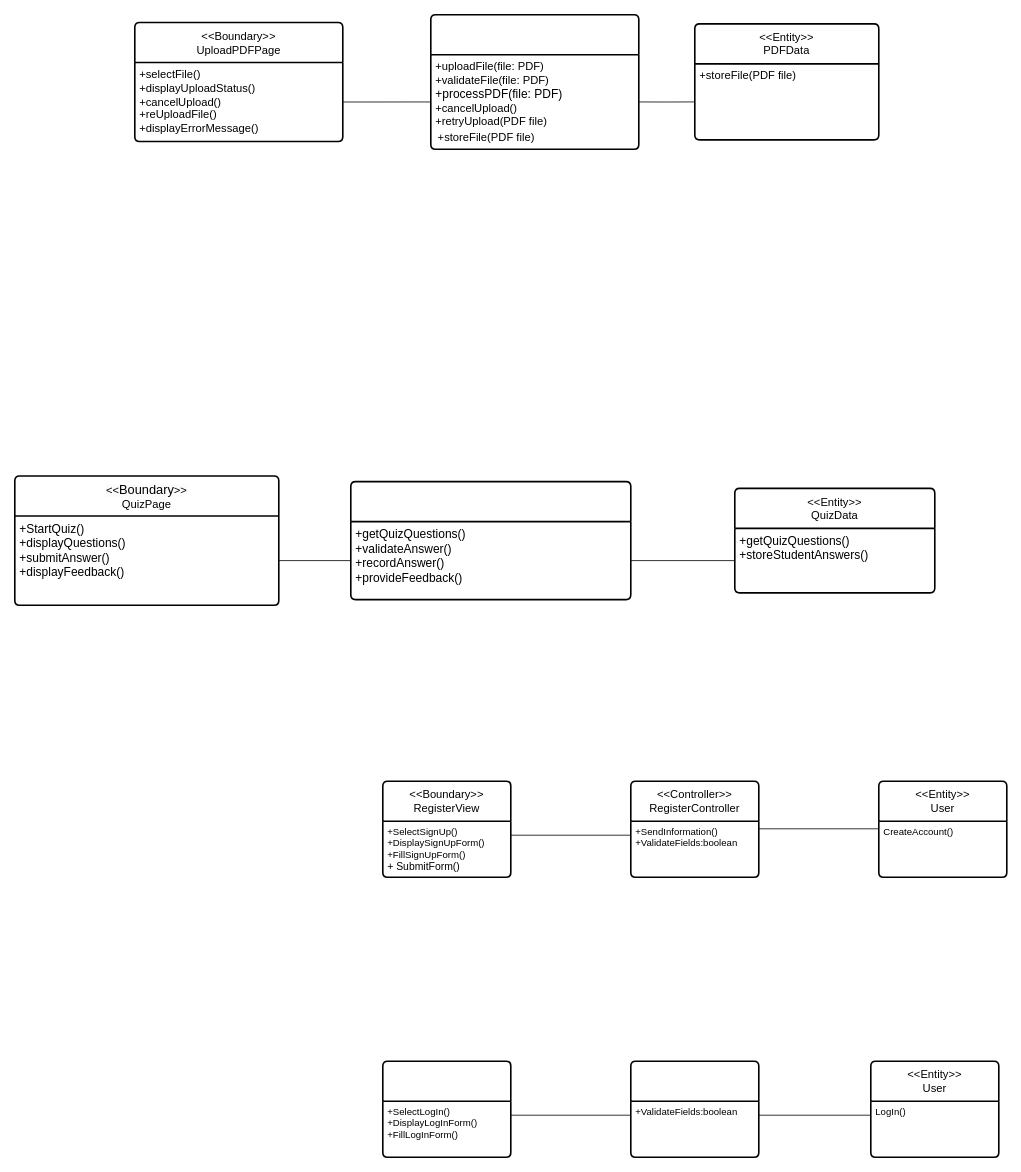
Image size: 1021x1172. Some labels were removed from this diagram. The box of each missing label's shape, as (x1, y1, x2, y2) in pixels:
<< Controller >> QuizController: (350, 480, 631, 600)
<<Boundary>> LogInPage: (382, 1060, 511, 1158)
<<Controller>> LogIn: (630, 1060, 759, 1158)
<<Controller>> PDFUploadController: (430, 14, 639, 150)
